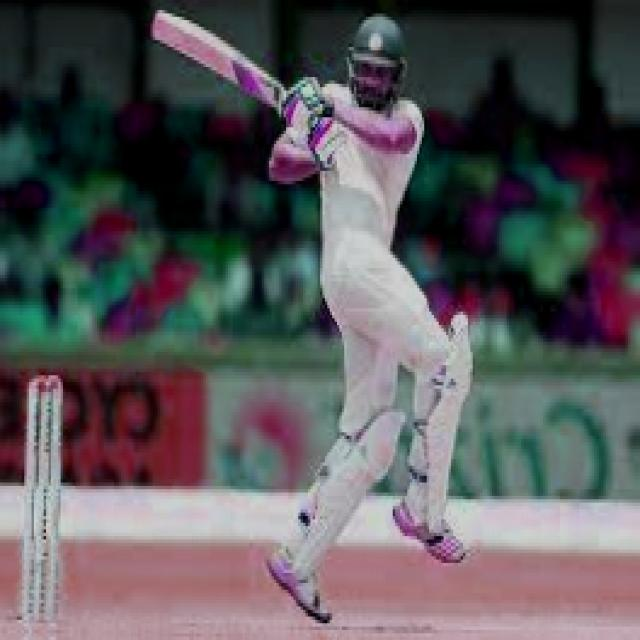toe: (147, 2, 170, 48)
